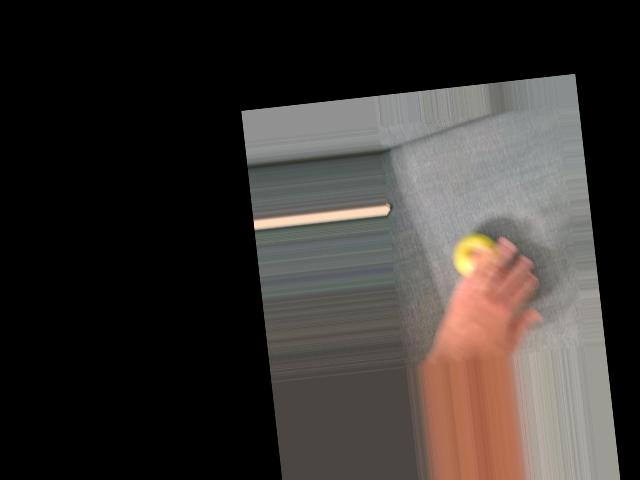apple: (438, 222, 510, 316)
